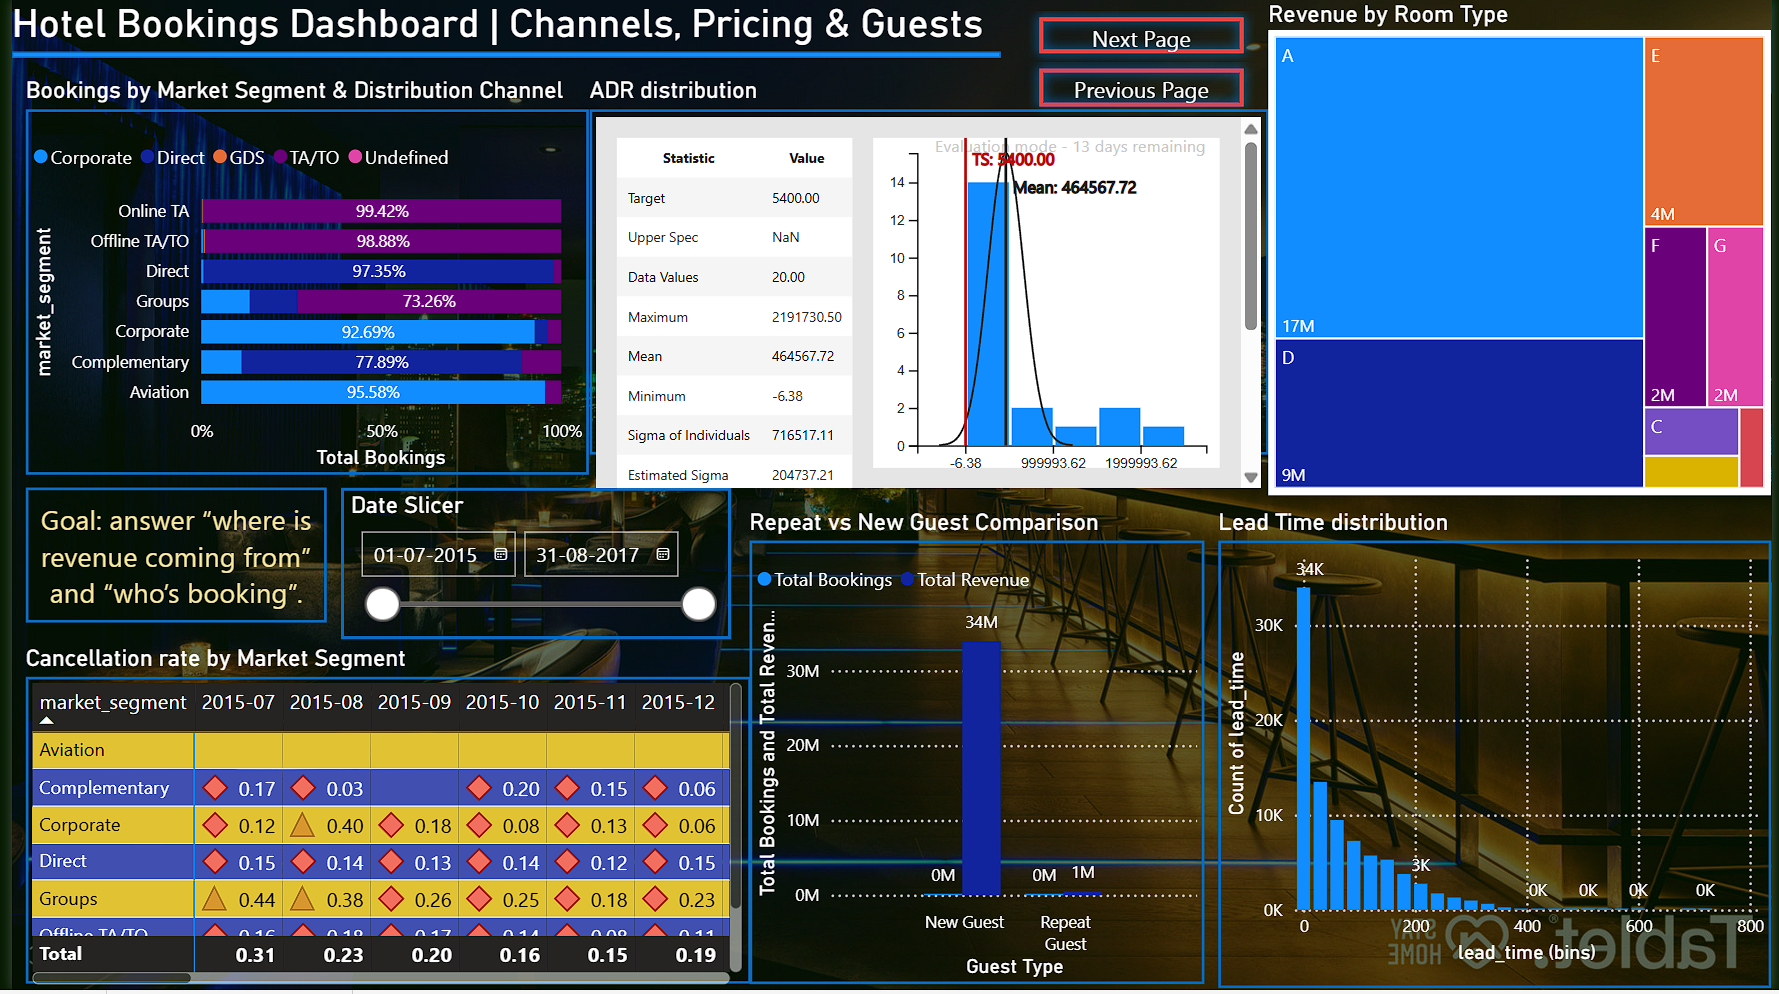

The dashboard page shown, as its layout file describes it:
{"tool":"powerbi","page":{"name":"Channels, Pricing & Guests","canvas":[1280,720],"ordinal":1},"visuals":[{"type":"shape","title":"Hotel Bookings Dashboard | Channels, Pricing & Guests","box":[0,0,719,42.3],"z":0},{"type":"shape","title":"Cancellation rate by Market Segment","box":[9.9,467.7,527.4,247.6],"z":1000},{"type":"shape","title":"Bookings by Market Segment & Distribution Channel","box":[10.2,55.4,409.6,290.1],"z":2000},{"type":"shape","title":"ADR distribution","box":[419.8,55.4,494.1,275.5],"z":3000},{"type":"hundredPercentStackedBarChart","fields":{"Y":["Hotel_Bookings_(1)(1).Total Bookings"],"Category":["Hotel_Bookings_(1)(1).market_segment"],"Series":["Hotel_Bookings_(1)(1).distribution_channel"]},"box":[10.2,93.3,409.6,252.2],"z":4000},{"type":"pivotTable","fields":{"Rows":["Hotel_Bookings_(1)(1).market_segment"],"Columns":["Date Table.YearMonth"],"Values":["Hotel_Bookings_(1)(1).Cancellation Rate"]},"box":[9.9,491.4,526.2,228.9],"z":5000},{"type":"shape","title":"Lead Time distribution","box":[877.4,368.8,402.3,349.8],"z":6000},{"type":"shape","title":"Revenue by Room Type","box":[913.9,0,365.8,360],"z":7000},{"type":"treemap","fields":{"Group":["DimRoomType.room_type"],"Values":["Hotel_Bookings_(1)(1).Total Revenue"]},"box":[914.3,26.1,365.7,333.4],"z":8000},{"type":"columnChart","fields":{"Category":["Hotel_Bookings_(1)(1).lead_time (bins)"],"Y":["CountNonNull(Hotel_Bookings_(1)(1).lead_time)"]},"box":[877.4,390.6,402.3,314.8],"z":9000},{"type":"shape","title":"Goal: answer “where is revenue coming from” and “who’s booking”.","box":[9.9,354.5,218.9,98.3],"z":10000},{"type":"shape","title":"Repeat vs New Guest Comparison","box":[536.4,368.8,330.9,346.9],"z":11000},{"type":"clusteredColumnChart","fields":{"Category":["Hotel_Bookings_(1)(1).Guest Type"],"Y":["Hotel_Bookings_(1)(1).Total Bookings","Hotel_Bookings_(1)(1).Total Revenue"]},"box":[536.4,400.8,330.9,314.8],"z":12000},{"type":"actionButton","title":"Next Page","box":[739,4.4,164.7,42.3],"z":13000},{"type":"actionButton","title":"Next Page","box":[739,42.3,164.7,43.7],"z":14000},{"type":"slicer","title":"Date Slicer","fields":{"Values":["Date Table.Date"]},"box":[239,354.2,284.2,110.8],"z":15000},{"type":"histogram42E8DF98F1244DB799B2A8A65DBCB226","fields":{"datavalues":["Sum(Hotel_Bookings_(1)(1).adr)"],"targetSpec":["Hotel_Bookings_(1)(1).Avg ADR"],"axis":["Hotel_Bookings_(1)(1).adr (bins)"]},"box":[419.8,80.2,494.1,279.9],"z":16000}]}

Visuals, with their boxes in screenshot pixels (x1, y1, x2, y2), scaled from the page's 1280x720 canvas onto the 1779x994 screenshot:
"Hotel Bookings Dashboard | Channels, Pricing & Guests" shape: 0,0,999,58
"Cancellation rate by Market Segment" shape: 14,646,747,988
"Bookings by Market Segment & Distribution Channel" shape: 14,76,583,477
"ADR distribution" shape: 583,76,1270,457
hundredPercentStackedBarChart - Hotel_Bookings_(1)(1).Total Bookings x Hotel_Bookings_(1)(1).market_segment: 14,129,583,477
pivotTable - Hotel_Bookings_(1)(1).market_segment x Date Table.YearMonth: 14,678,745,993
"Lead Time distribution" shape: 1219,509,1778,992
"Revenue by Room Type" shape: 1270,0,1778,497
treemap - DimRoomType.room_type x Hotel_Bookings_(1)(1).Total Revenue: 1271,36,1778,496
columnChart - Hotel_Bookings_(1)(1).lead_time (bins) x CountNonNull(Hotel_Bookings_(1)(1).lead_time): 1219,539,1778,974
"Goal: answer “where is revenue coming from” and “who’s booking”." shape: 14,489,318,625
"Repeat vs New Guest Comparison" shape: 746,509,1205,988
clusteredColumnChart - Hotel_Bookings_(1)(1).Guest Type x Hotel_Bookings_(1)(1).Total Bookings: 746,553,1205,988
"Next Page" actionButton: 1027,6,1256,64
"Next Page" actionButton: 1027,58,1256,119
"Date Slicer" slicer: 332,489,727,642
histogram42E8DF98F1244DB799B2A8A65DBCB226 - Sum(Hotel_Bookings_(1)(1).adr) x Hotel_Bookings_(1)(1).Avg ADR: 583,111,1270,497
